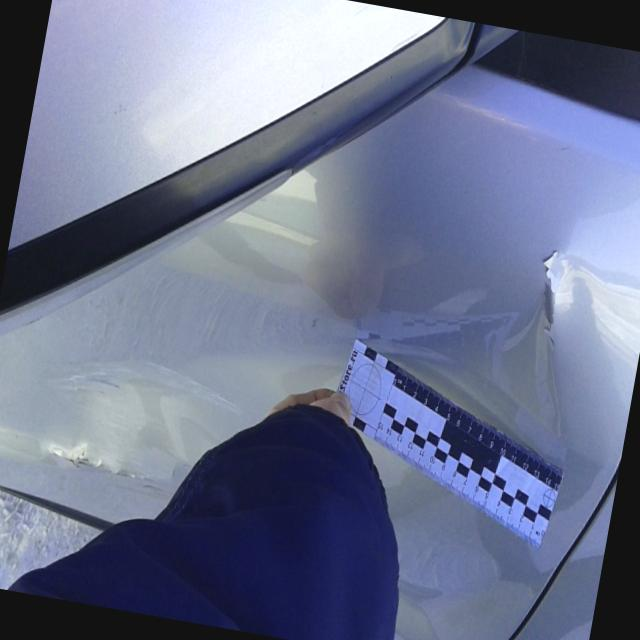Cabossage: (375, 242, 579, 452), (370, 459, 539, 640)
Dechirure: (41, 429, 166, 511), (517, 236, 580, 352)
Rayure: (66, 354, 171, 405)
